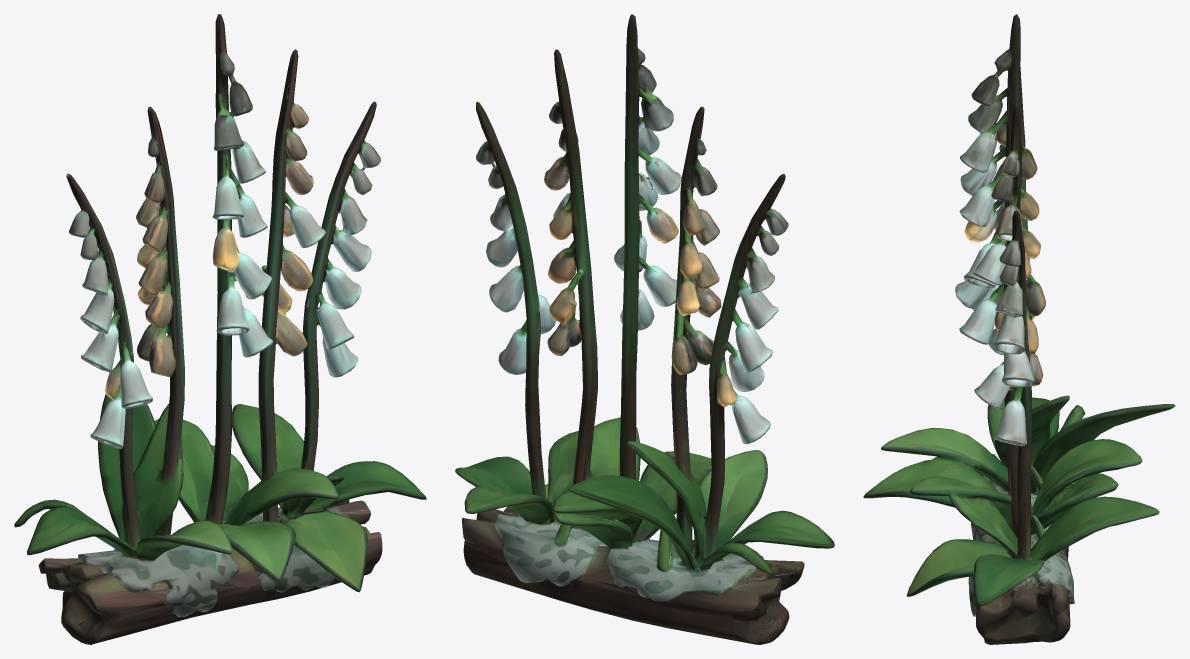
The model's file is mesh_foxglove_cluster_a.glb.
3 views of the same model, side by side, from view 1: azimuth 30°, elevation 25°; view 2: azimuth 150°, elevation 25°; view 3: azimuth 270°, elevation 25° (orthographic). The views are drawn at different scales.
Parts seen in each view (by area): view 1: Mesh_0; view 2: Mesh_0; view 3: Mesh_0.
Part boxes in pixels (x1,y1,x2,y2): Mesh_0: (14,14,426,644); Mesh_0: (455,14,834,644); Mesh_0: (863,14,1175,644).
Size of the model in its own units: 1.3 by 1.9 by 0.9345.
1 material, 1 textured.
